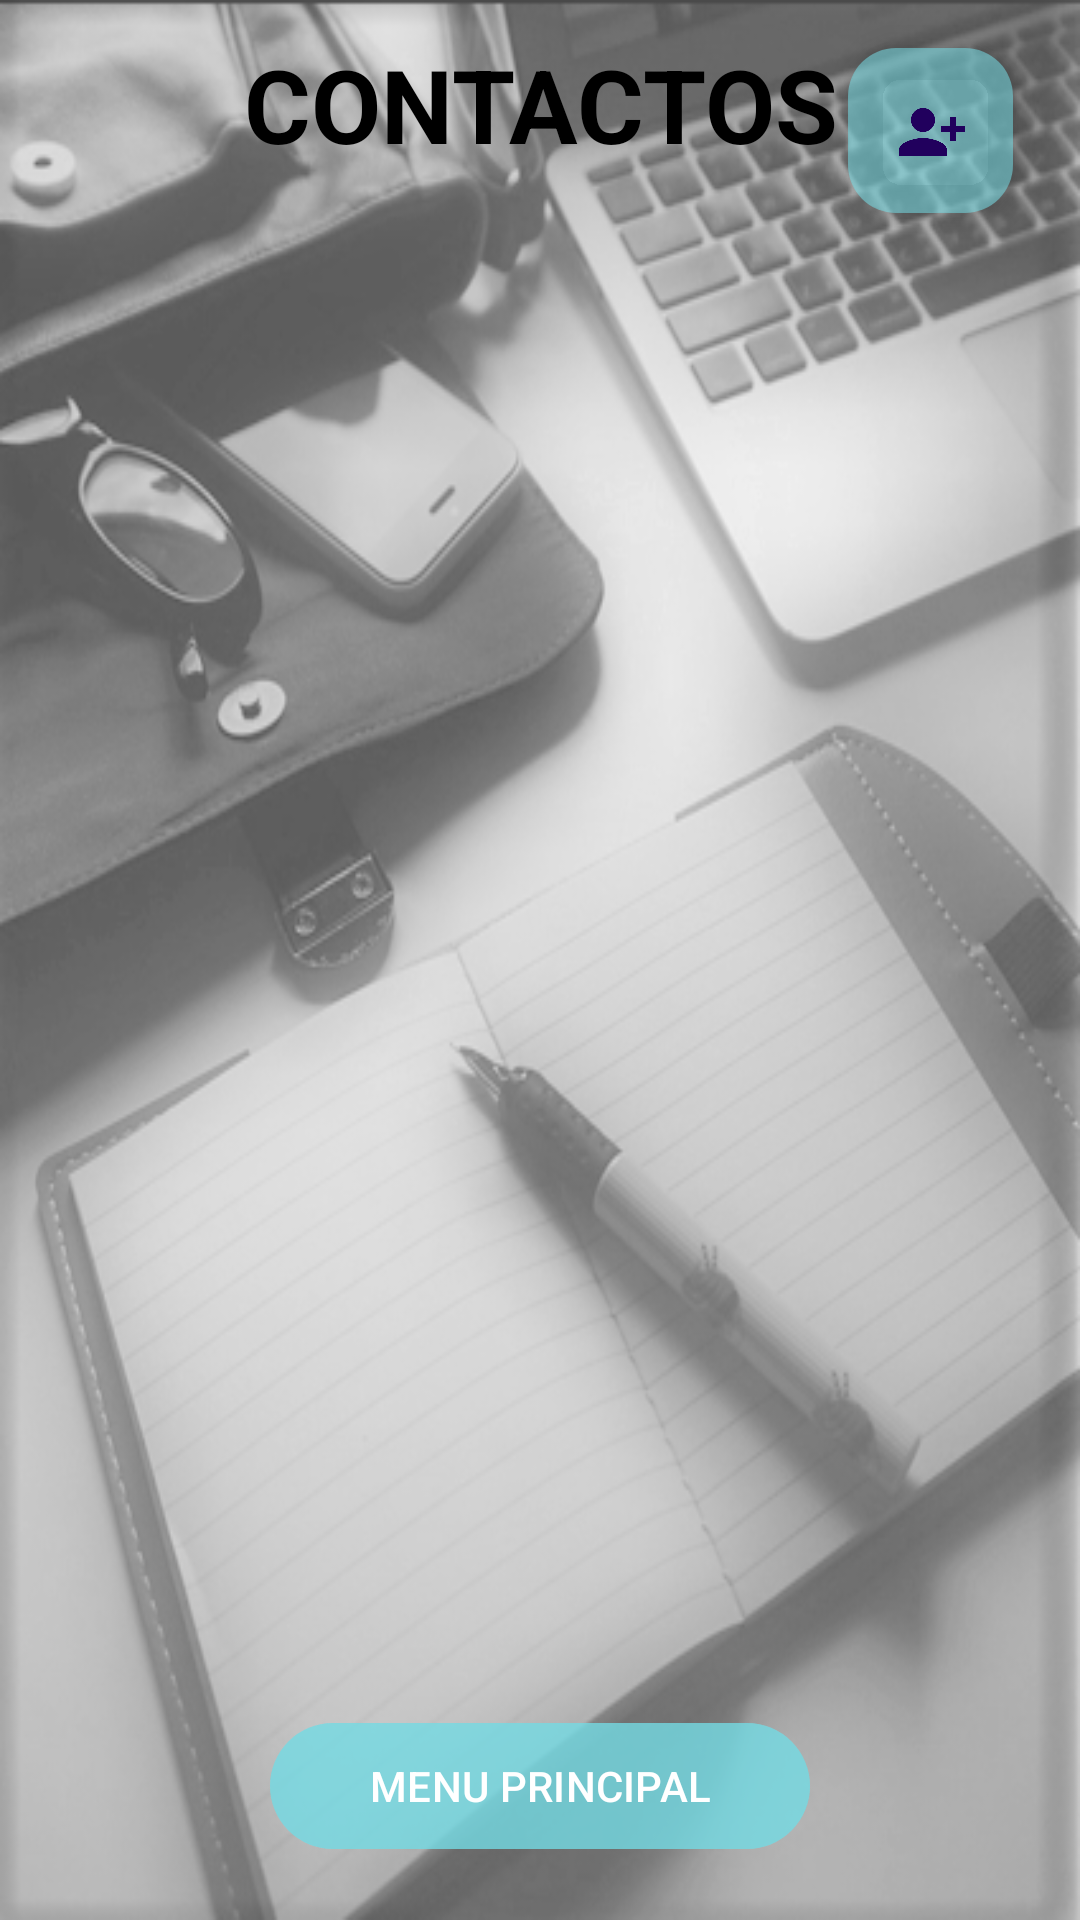

Named icons in this screenshot (1080 x 1920) and their bounding boxes, detection(x1, y1, x2, y2):
crear contacto: detection(848, 48, 1013, 213)
